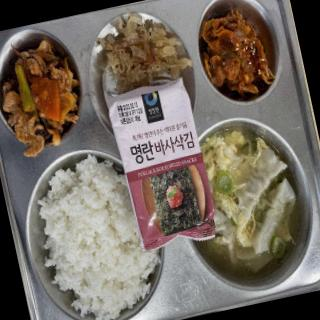Nasi: (31, 147, 154, 320)
